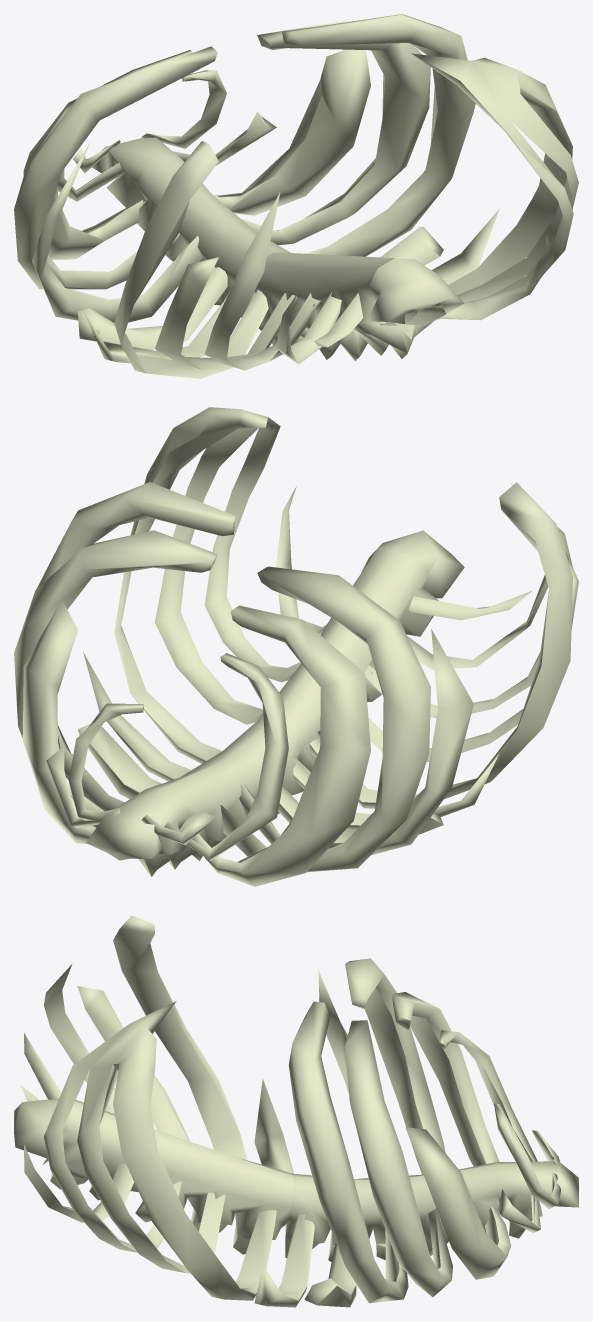
The model's file is T_broken_rib_1.fbx.
3 renders of one model, top to bottom at view 1: azimuth 30°, elevation 25°; view 2: azimuth 150°, elevation 25°; view 3: azimuth 270°, elevation 25°, orthographic. The views are drawn at different scales.
Visible parts, largest first — view 1: Cylinder; view 2: Cylinder; view 3: Cylinder.
Part boxes in pixels (box(x1,y1,x2,y2)): Cylinder: box(14, 14, 578, 378); Cylinder: box(14, 407, 578, 886); Cylinder: box(14, 915, 578, 1307).
Bounding box in the file's own units: 8994 × 6279 × 10799.
